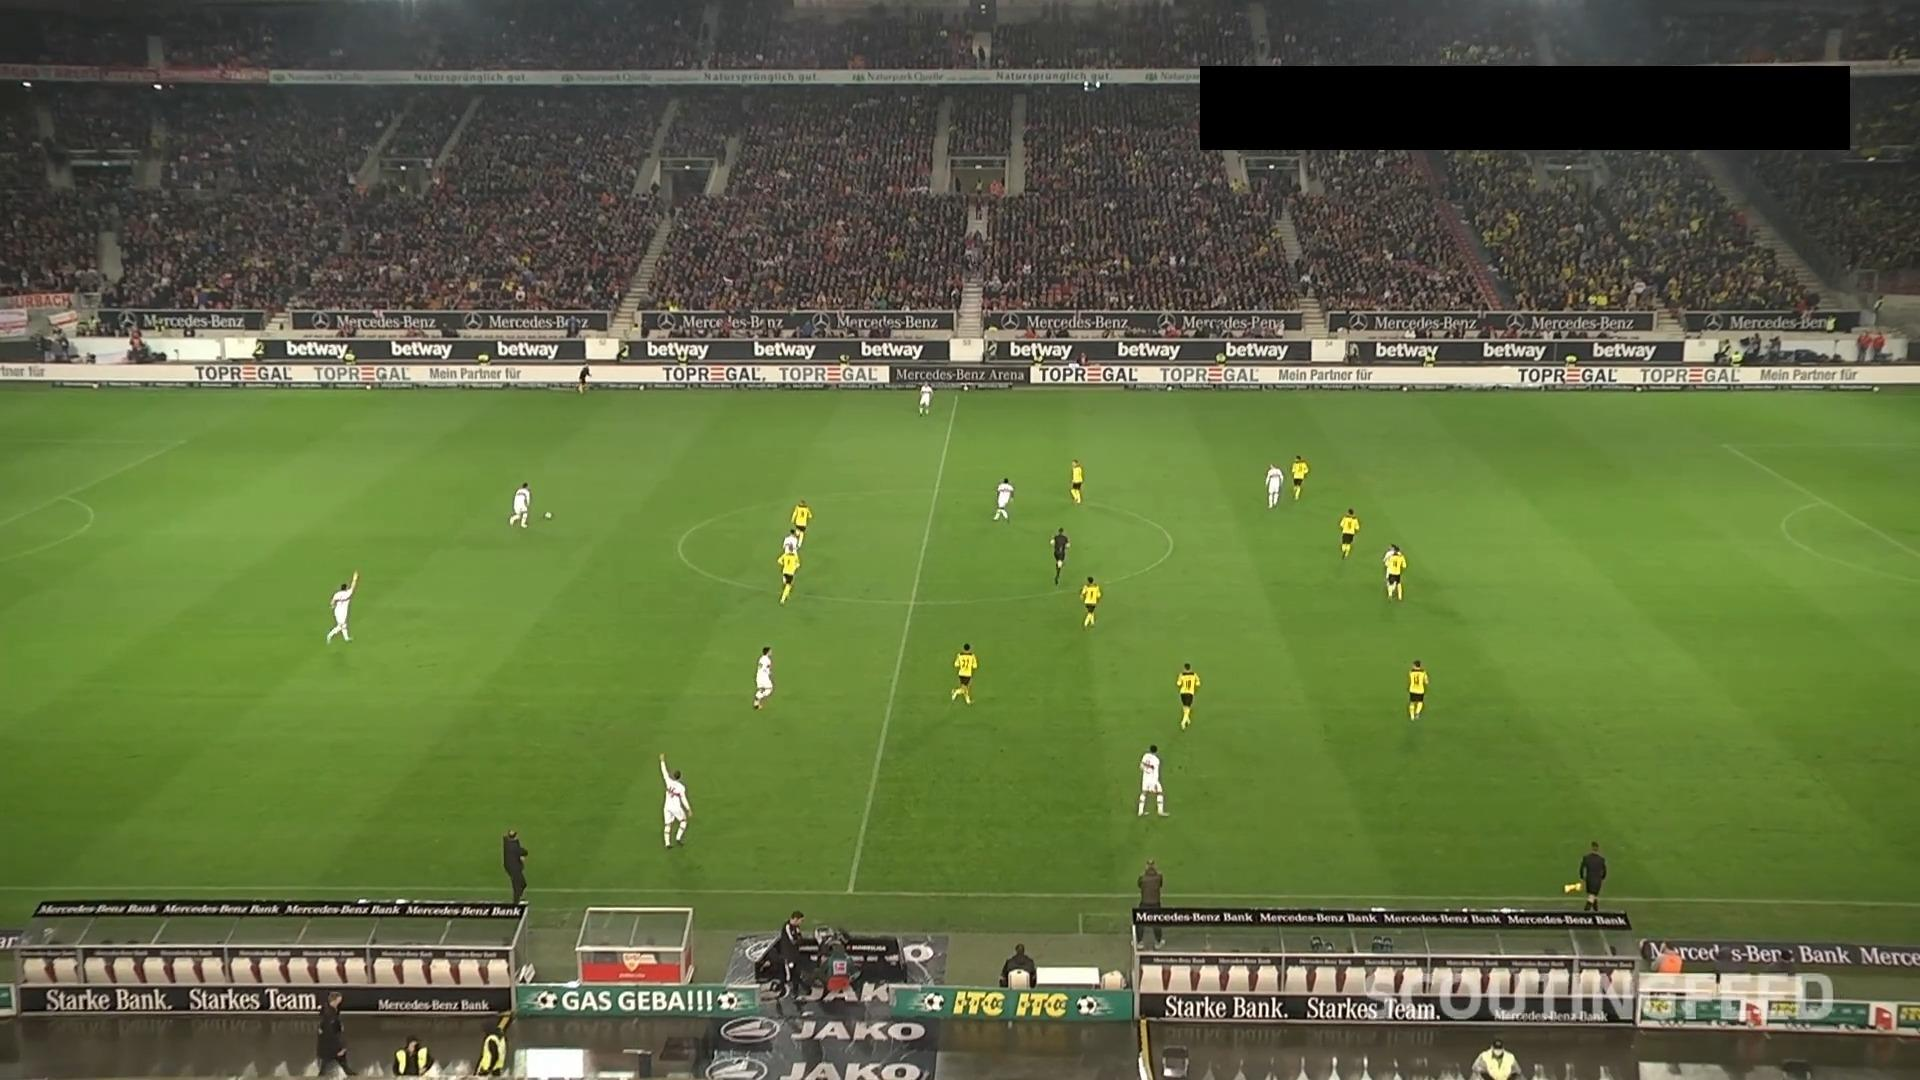ball: (543, 510, 554, 521)
